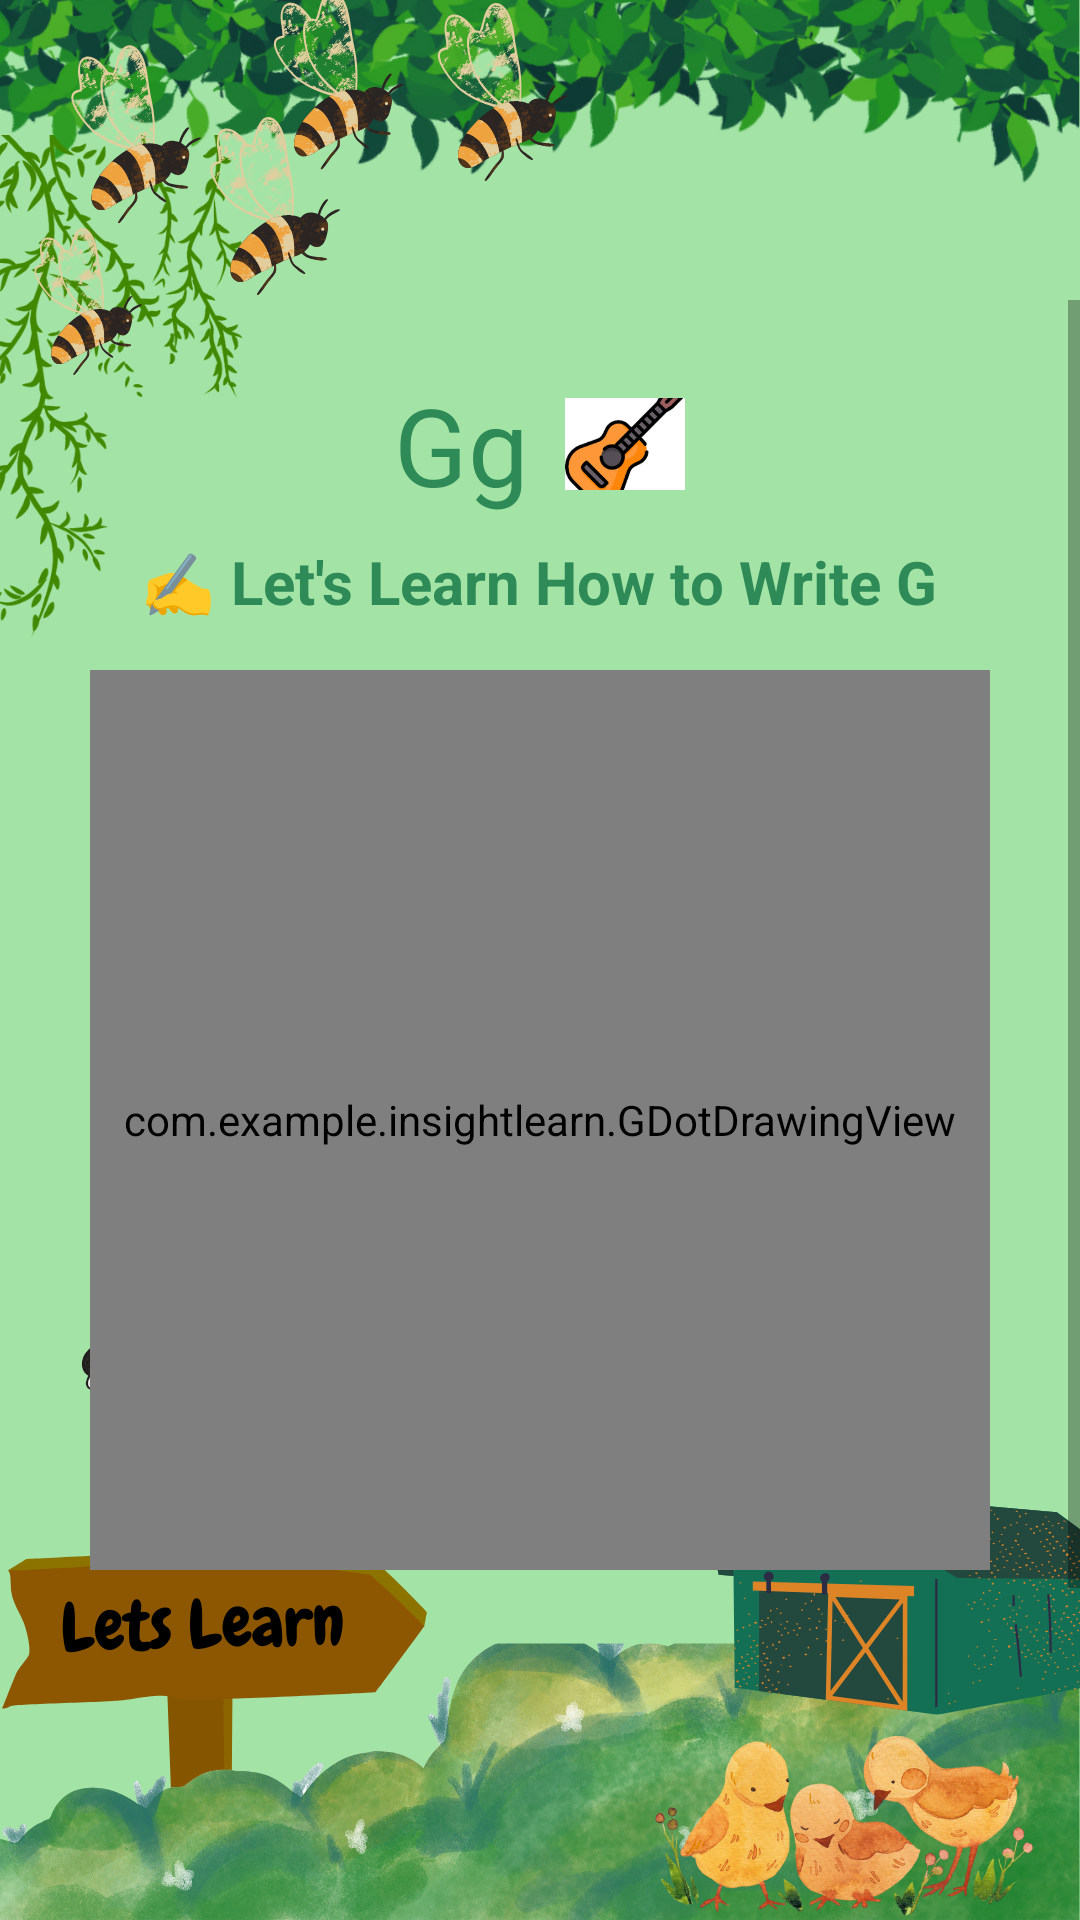

Icon click points for this 1080 × 1920 phone screenshot, format (x=x, y=y):
Guitar: (x=625, y=444)
